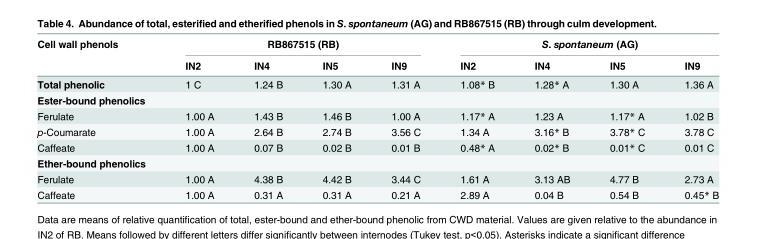table: (36, 37, 718, 200)
table column: (36, 37, 164, 200), (513, 37, 589, 200), (439, 37, 513, 200), (589, 37, 663, 200), (164, 37, 233, 200), (301, 37, 370, 200), (370, 37, 439, 200), (233, 37, 301, 200), (663, 37, 718, 200)
table column header: (36, 37, 718, 74)
table projected row header: (36, 91, 718, 107), (36, 155, 718, 170)
table row: (36, 54, 718, 74), (36, 37, 718, 54), (36, 74, 718, 91), (36, 91, 718, 107), (36, 107, 718, 123), (36, 123, 718, 139), (36, 139, 718, 155), (36, 170, 718, 186), (36, 155, 718, 170), (36, 186, 718, 200)
table spanning cell: (439, 37, 718, 54), (36, 37, 164, 74), (164, 37, 439, 54)
